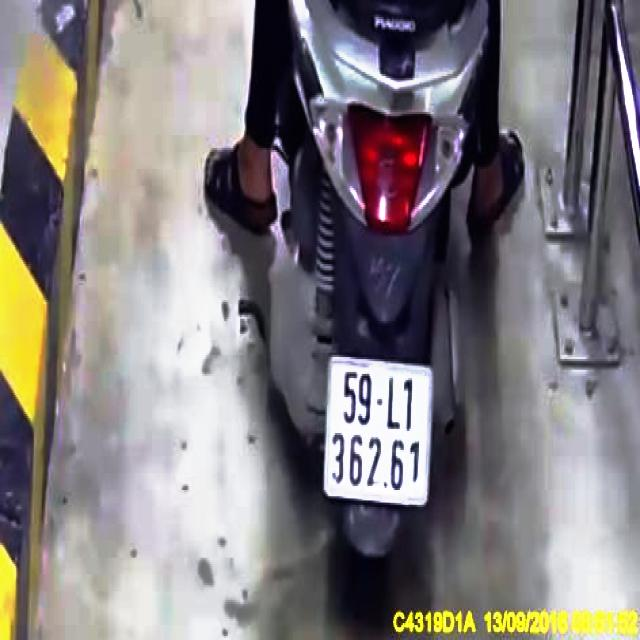license_plate: (327, 355, 433, 504)
